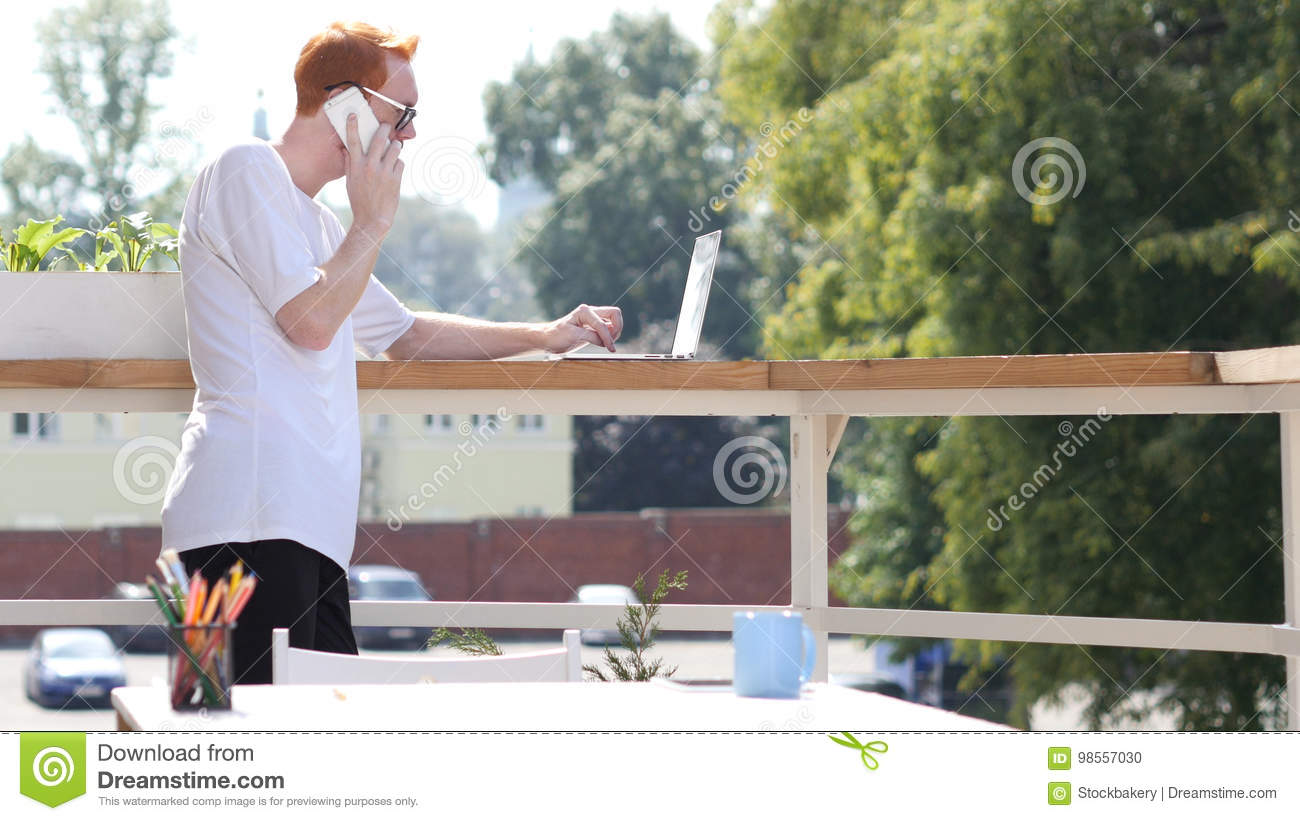phone: (328, 86, 390, 163)
talk: (328, 78, 418, 233)
